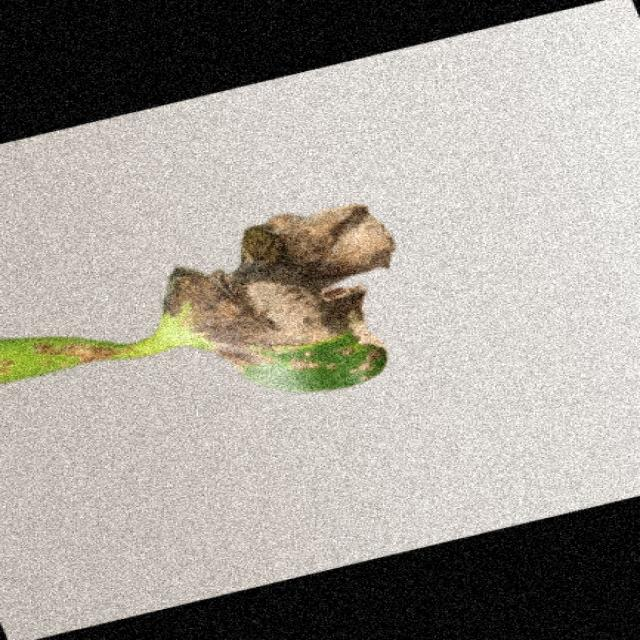daun berpenyakit karat: (0, 206, 395, 392)
